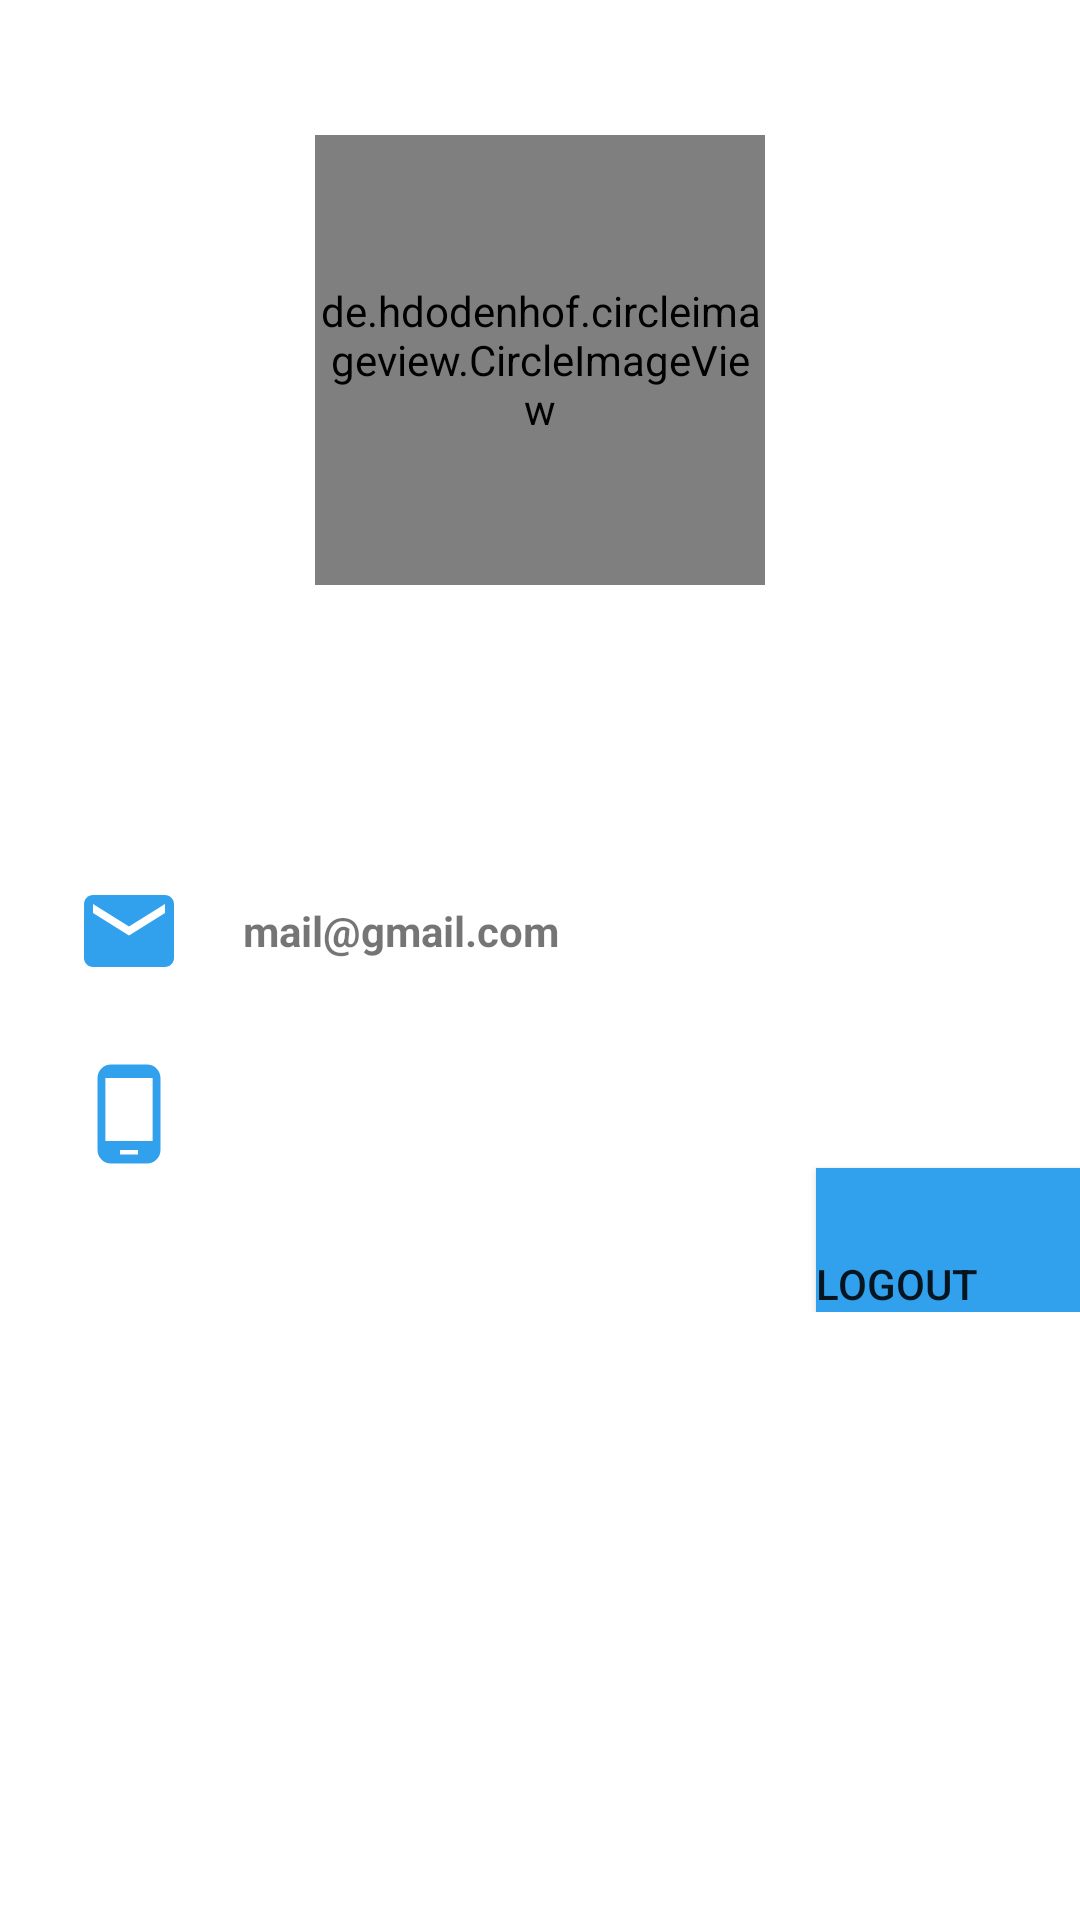

Screen size 1080px×1920px. Icon name, then its center in pixels as [x,y]:
email: [129,931]
